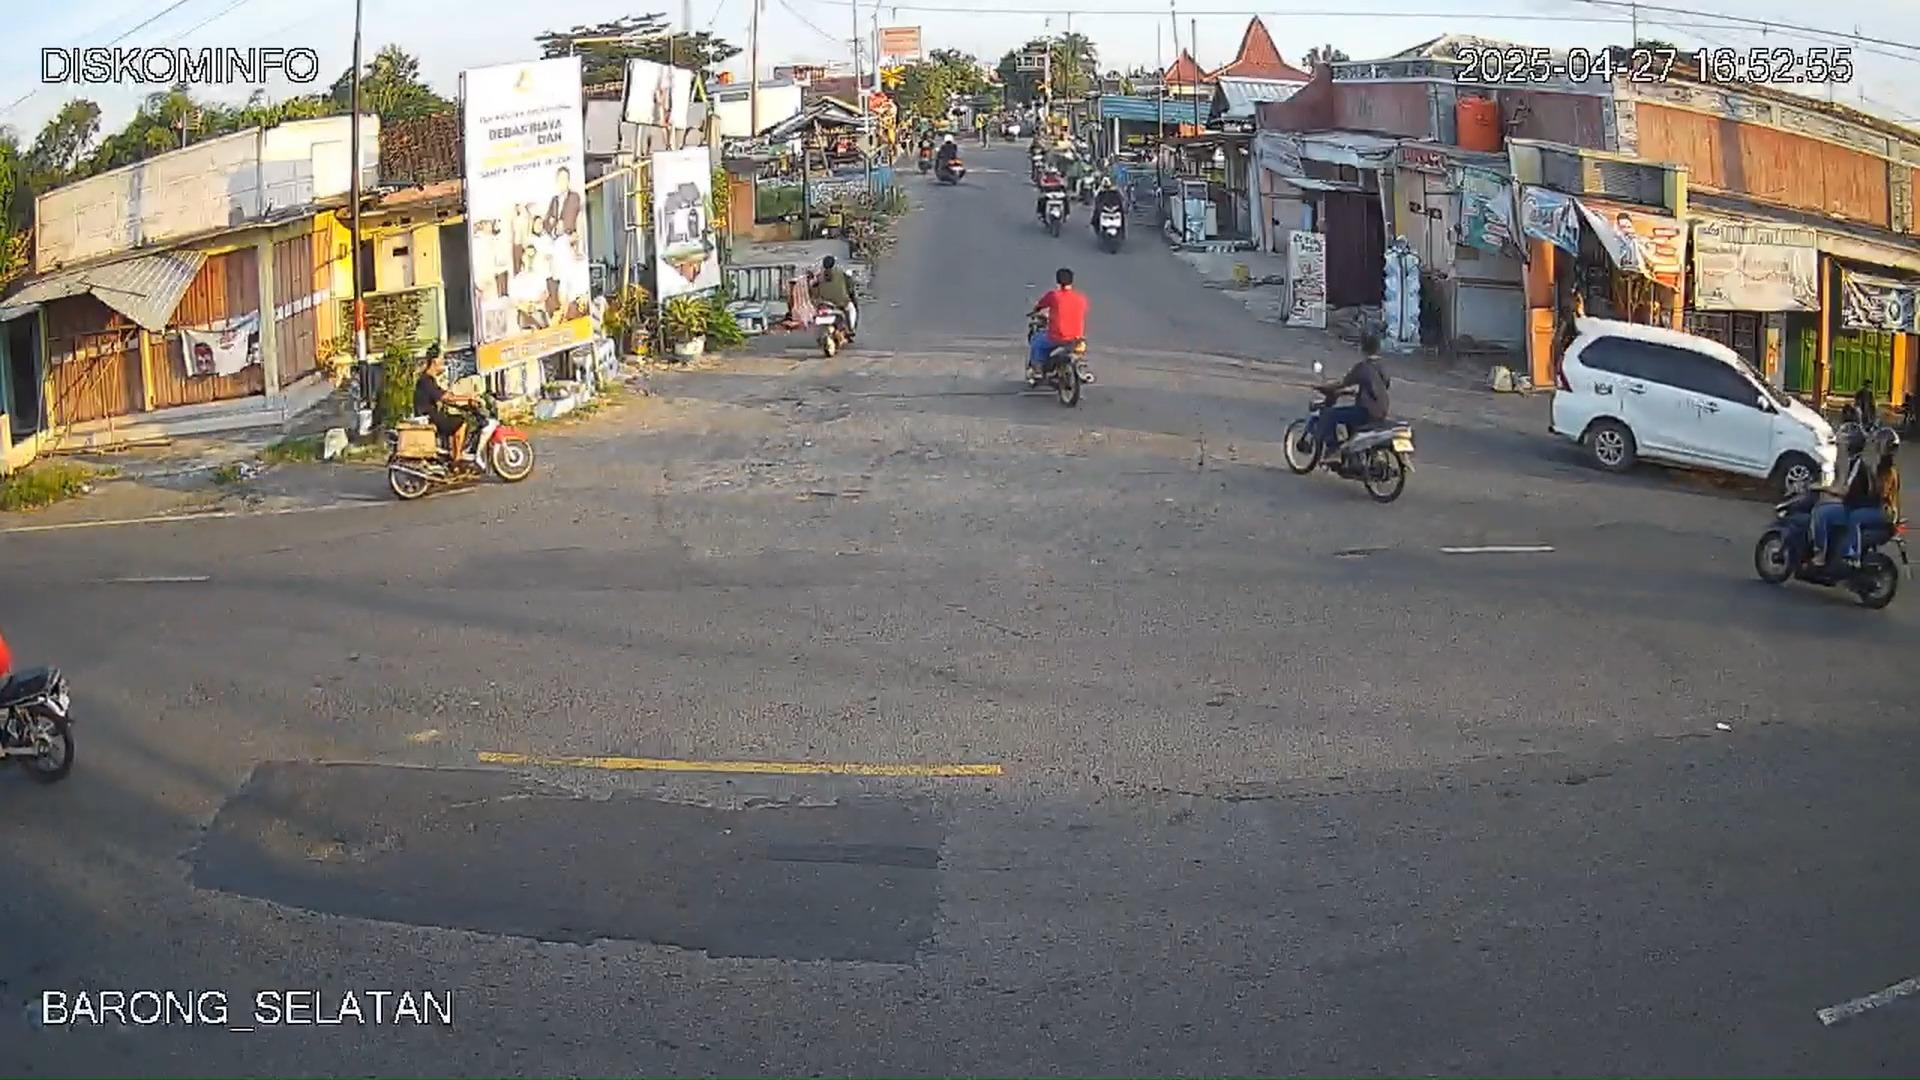Motor: (1754, 444, 1905, 608), (396, 344, 533, 498), (1282, 376, 1411, 504), (0, 657, 76, 786), (1030, 262, 1097, 394), (812, 291, 858, 359)
mobil: (1547, 314, 1844, 496)
